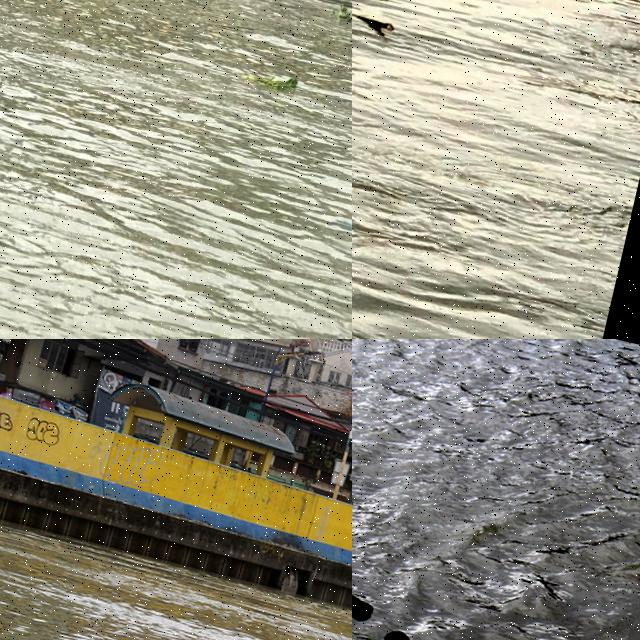water-hyacinth: (353, 1, 451, 53)
